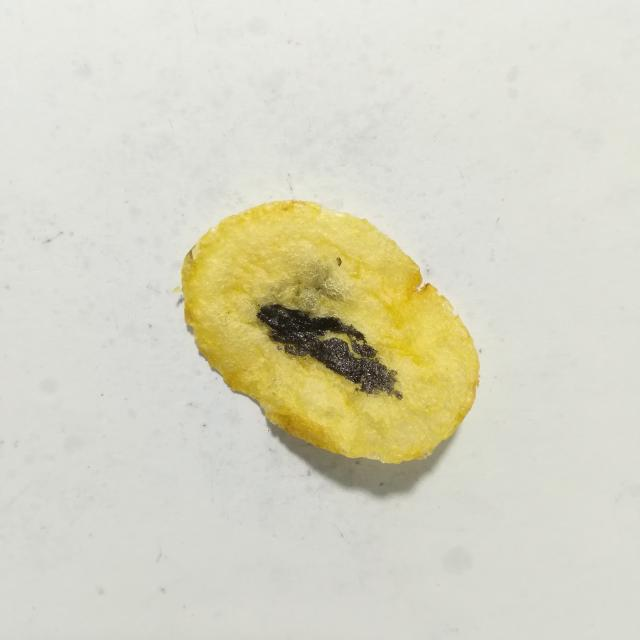chip: (176, 200, 479, 463)
damaged: (257, 304, 401, 399)
semi-damaged: (258, 259, 349, 318), (336, 257, 342, 266)
